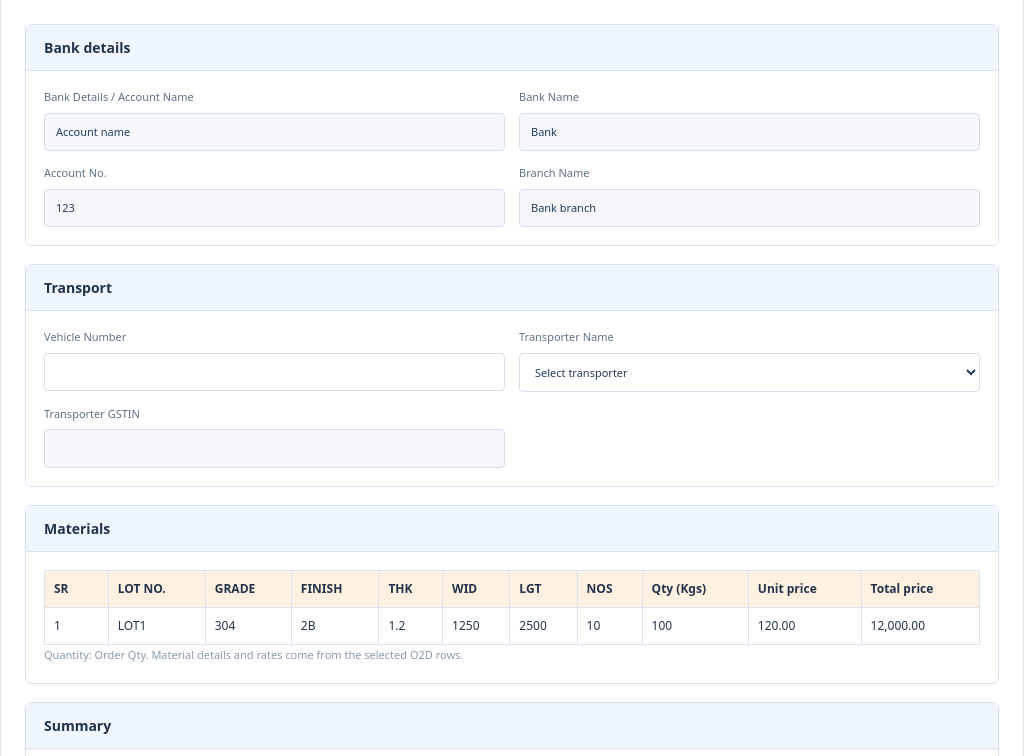
it: Dispatch Order builder › prefills parties, renders full document fields, preserves approval and preselection
(page scrolled)
Expected: the heading "Bank details" is shown, x1=26 y1=25 x2=998 y2=71
Expected: the heading "Transport" is shown, x1=26 y1=265 x2=998 y2=311
Select "Truck A" in the dropdown labelled "Transporter Name" at (750, 372), box x1=519 y1=353 x2=980 y2=392
(page scrolled)
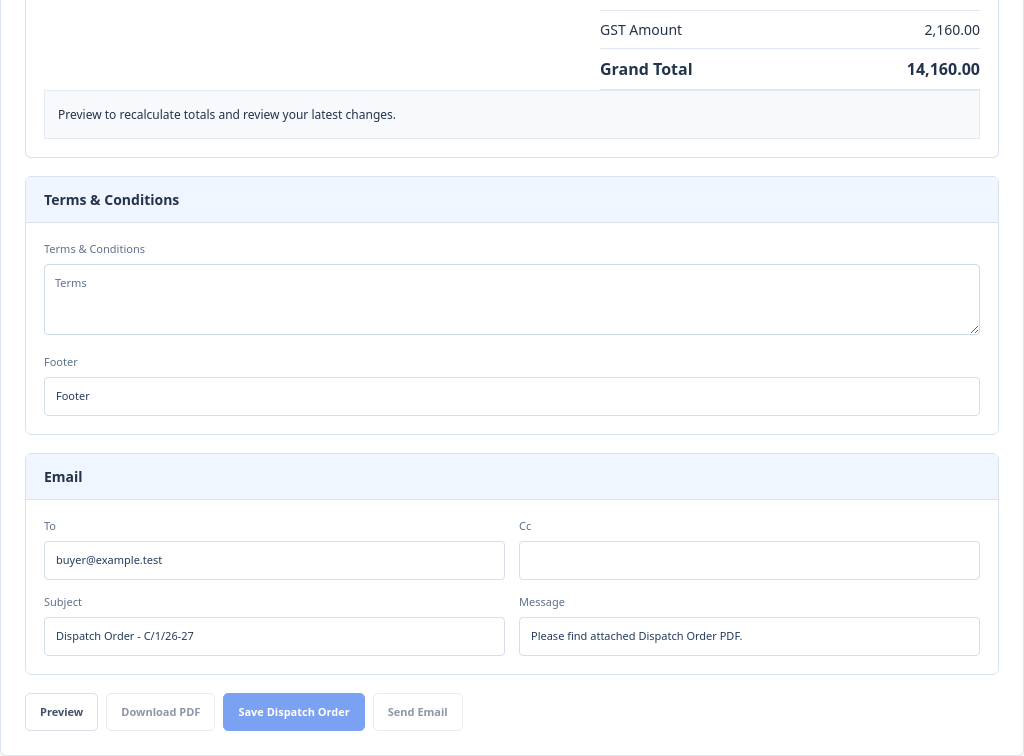
Expected: the button "Save Dispatch Order" is disabled, x1=223 y1=693 x2=365 y2=731
Click the button "Preview" at (62, 712), box x1=25 y1=693 x2=98 y2=731
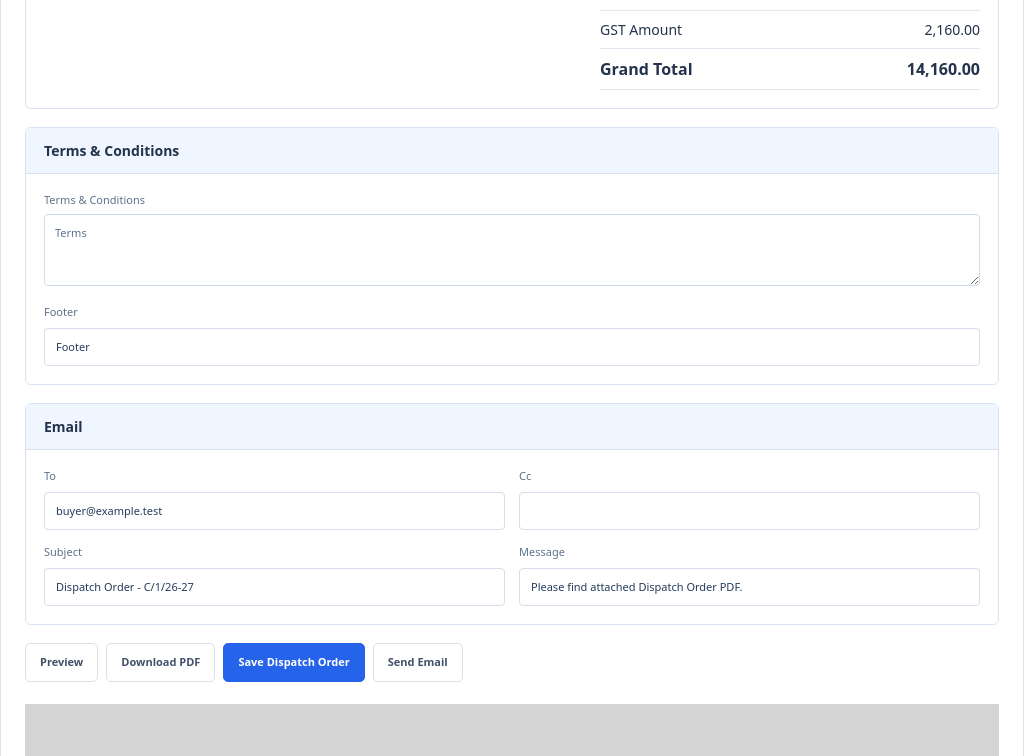
Expected: the button "Save Dispatch Order" is enabled, x1=223 y1=643 x2=365 y2=682
